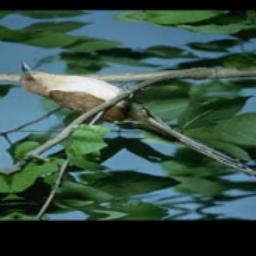Cuckoo: (12, 48, 256, 188)
